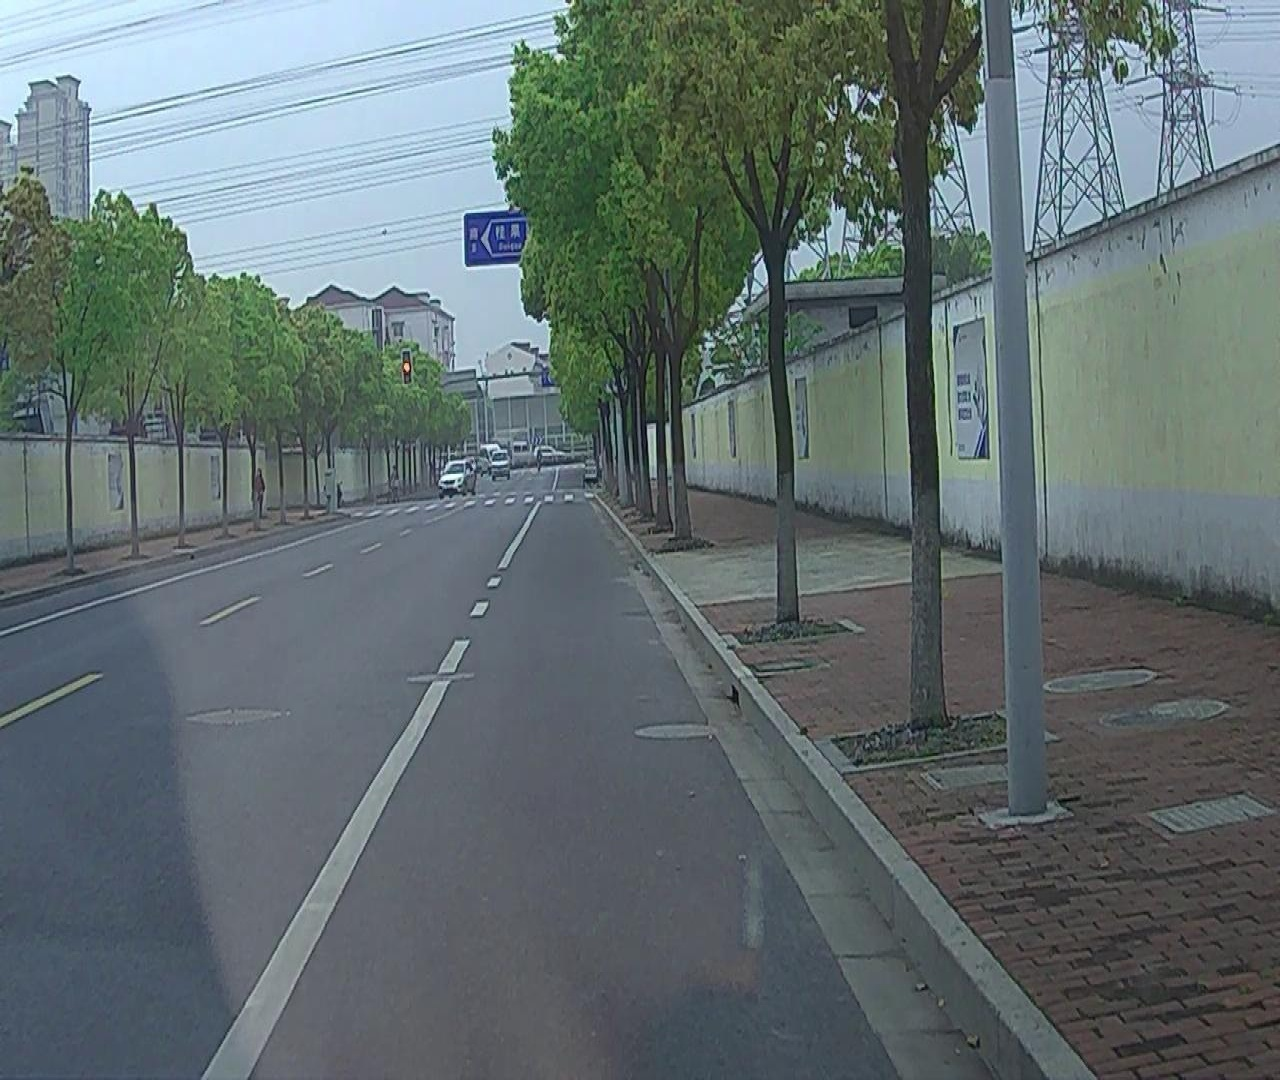yellow: (400, 352, 412, 381)
